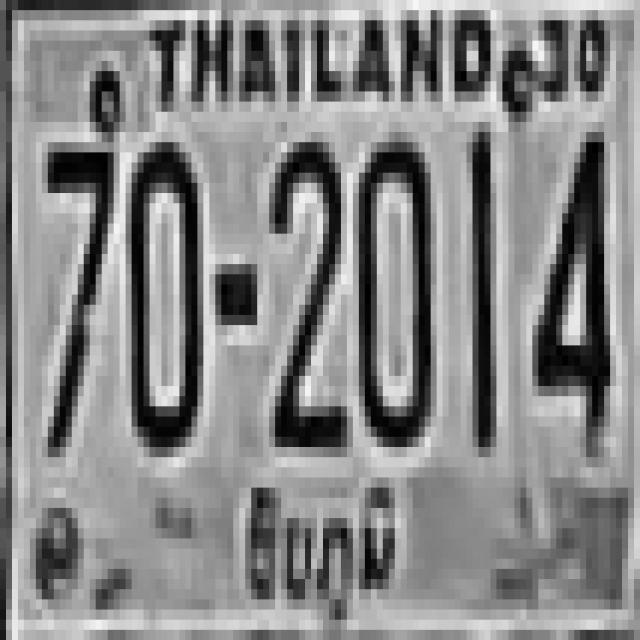0: (353, 132, 431, 437), (125, 132, 198, 447)
1: (466, 127, 491, 452)
2: (269, 137, 341, 442)
4: (529, 122, 607, 437)
7: (42, 137, 114, 452), (42, 142, 114, 366)
Chaiyaphum: (231, 468, 415, 623)
